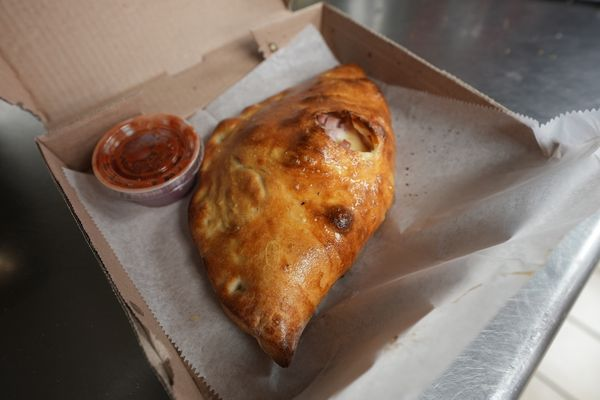sushi: (90, 113, 203, 206)
